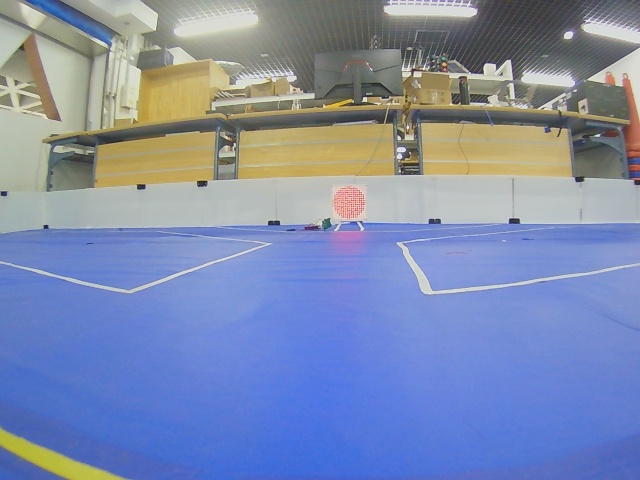red: (333, 186, 366, 220)
